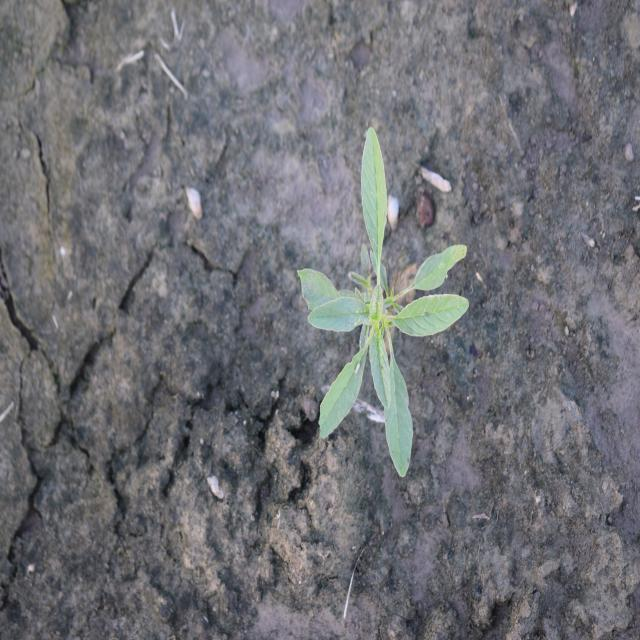Waterhemp: (296, 126, 471, 480)
